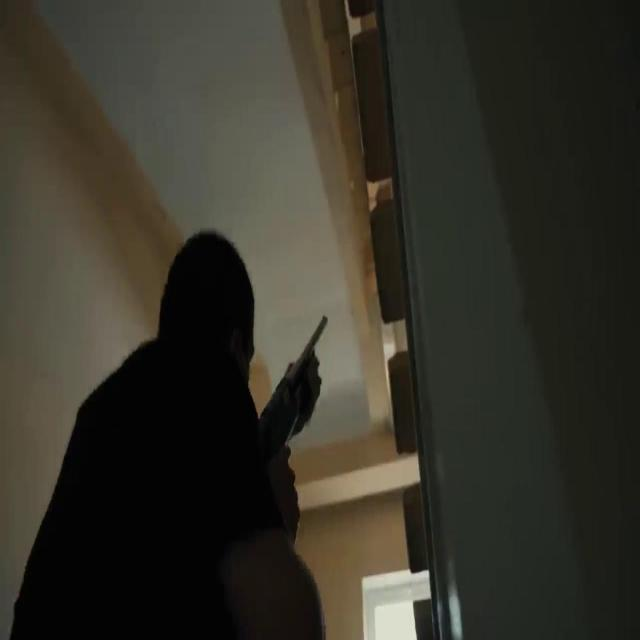gun: (10, 229, 328, 640), (257, 314, 328, 466)
